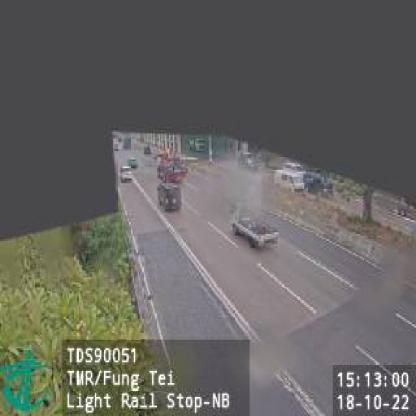Car: (275, 170, 305, 197), (158, 184, 182, 213), (119, 164, 132, 181), (127, 156, 138, 168)
Truck: (229, 195, 281, 252), (154, 145, 189, 184)
